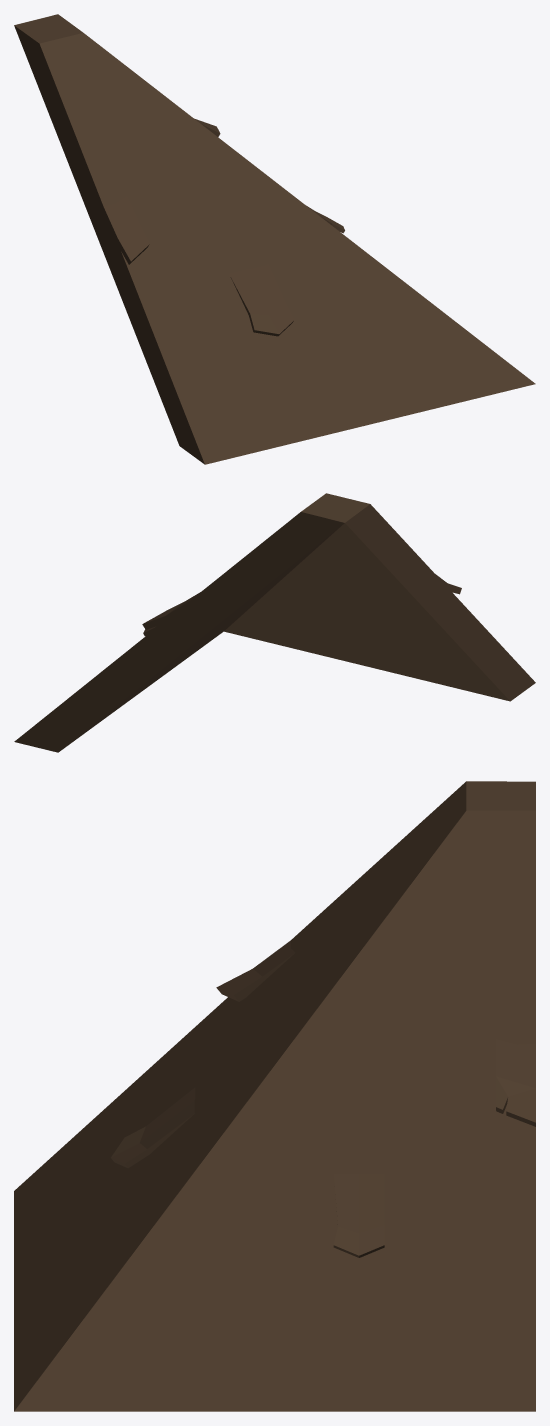
Rendered from roof-wood-corner-our.fbx.
The picture shows the model from 3 angles, top to bottom: view 1: azimuth 30°, elevation 25°; view 2: azimuth 150°, elevation 25°; view 3: azimuth 270°, elevation 25°; orthographic projection. The views are drawn at different scales.
Parts seen in each view (by area): view 1: roof-wood-corner-our; view 2: roof-wood-corner-our; view 3: roof-wood-corner-our.
Boxes of the visible parts, x1,y1,x2,y2 form: roof-wood-corner-our: [14, 14, 535, 464]; roof-wood-corner-our: [14, 493, 535, 752]; roof-wood-corner-our: [14, 781, 535, 1411].
Bounding box in the file's own units: 3.46 × 3 × 3.46.
